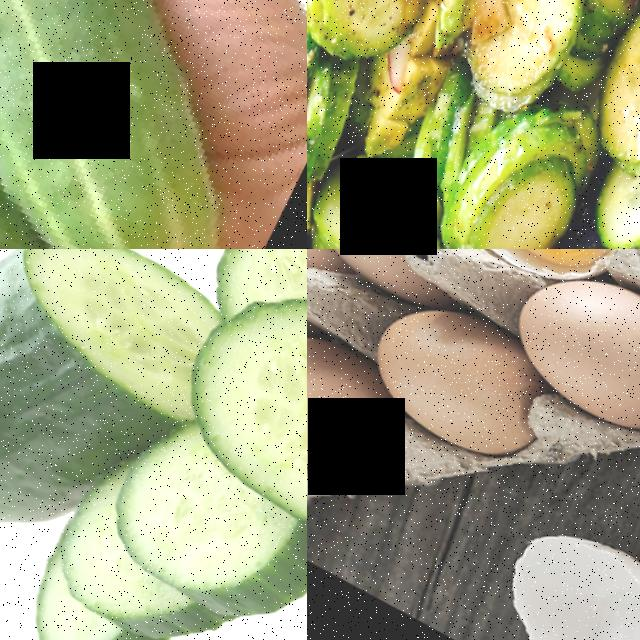cucumber: (0, 0, 303, 249), (0, 249, 161, 568), (152, 262, 307, 564), (0, 0, 163, 249), (569, 0, 640, 177)
egg_: (352, 279, 568, 471), (493, 249, 640, 449), (307, 306, 409, 492), (307, 249, 435, 284)
